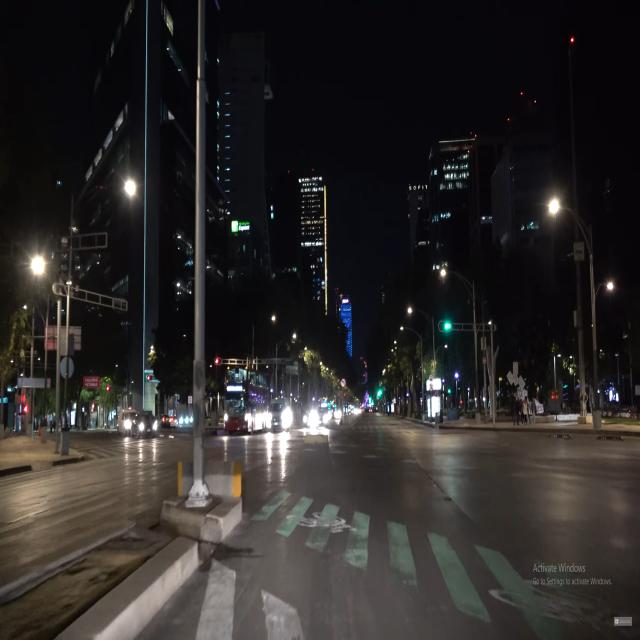headlights: (263, 406, 296, 435), (220, 408, 253, 431), (137, 416, 161, 440)
